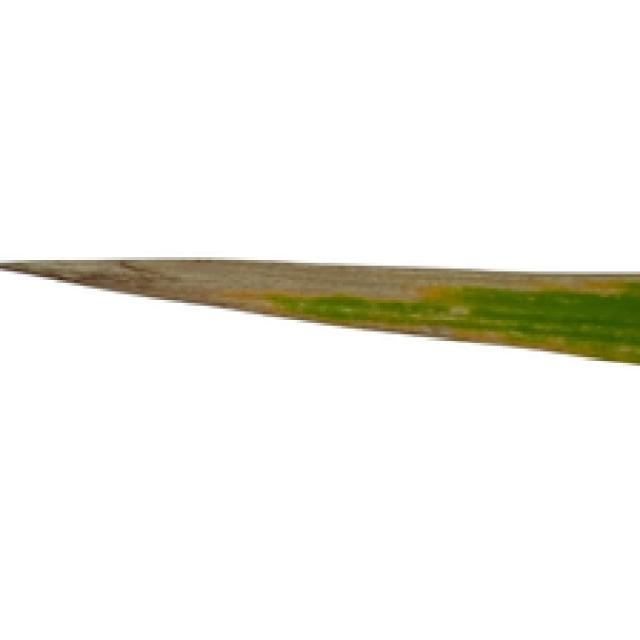Rice___Bacterial_Leaf_Blight: (0, 255, 637, 370)
